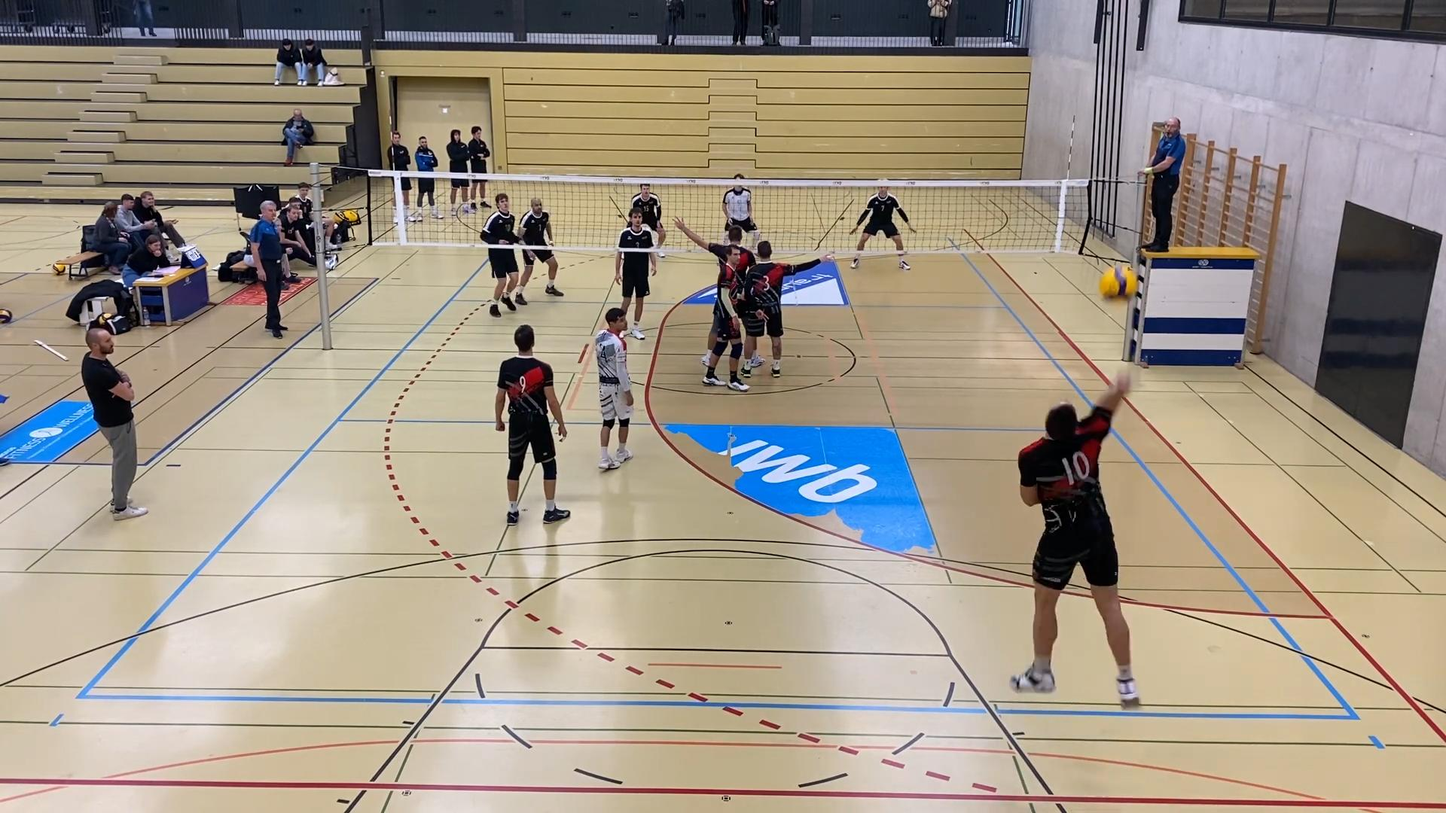Player: (495, 324, 569, 525), (738, 241, 831, 377), (703, 245, 747, 391), (595, 307, 633, 469), (850, 181, 916, 269), (615, 208, 657, 340), (514, 197, 563, 304), (480, 193, 520, 316), (675, 218, 755, 273), (722, 173, 759, 248), (630, 184, 666, 248)
Serve: (1015, 368, 1141, 707)
ball: (1091, 263, 1142, 307)
